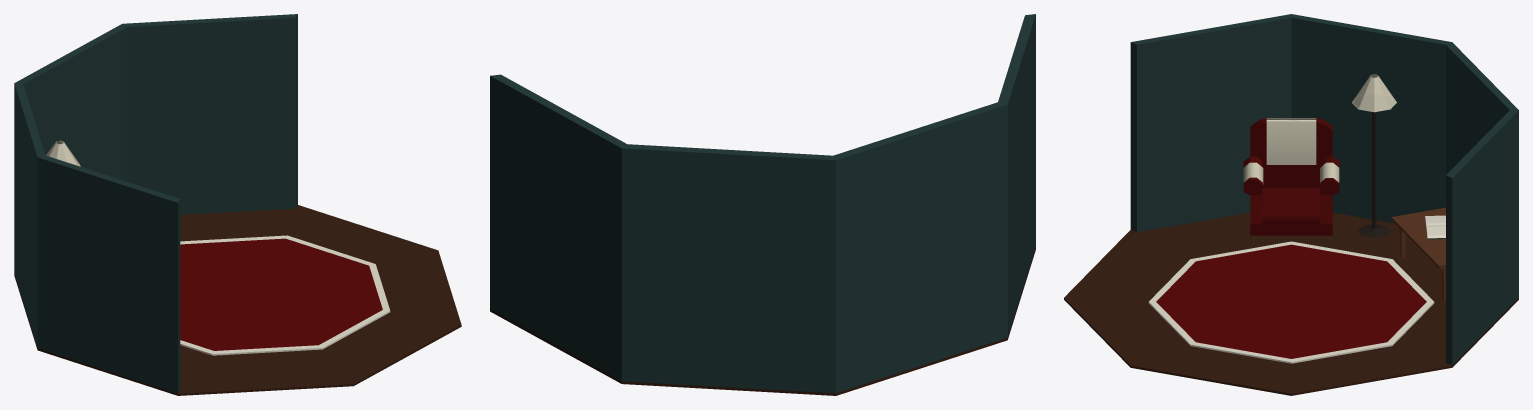
The model's file is grandmas_home_scene_lights.fbx.
3 renders of one model, left to right at view 1: azimuth 30°, elevation 25°; view 2: azimuth 150°, elevation 25°; view 3: azimuth 270°, elevation 25°, orthographic. The views are drawn at different scales.
Parts seen in each view (by area): view 1: floor_01, rug_01:rug_01, lamp_01:lampshade_01; view 2: floor_01; view 3: floor_01, rug_01:rug_01, armchair_02:armchair_01, armchair_02:throwover_03, armchair_02:cushion_01, desk_01:desk_01, lamp_01:lampshade_01, lamp_01:lamppost_01, book_01:pages_01.
Boxes of the visible parts, bbox=[...] form: floor_01: bbox=[14, 14, 461, 395]; rug_01:rug_01: bbox=[180, 235, 390, 355]; lamp_01:lampshade_01: bbox=[46, 140, 80, 166]; floor_01: bbox=[490, 14, 1035, 395]; floor_01: bbox=[1064, 14, 1518, 395]; rug_01:rug_01: bbox=[1148, 241, 1434, 363]; armchair_02:armchair_01: bbox=[1243, 118, 1339, 244]; armchair_02:throwover_03: bbox=[1266, 118, 1316, 164]; armchair_02:cushion_01: bbox=[1262, 188, 1320, 223]; desk_01:desk_01: bbox=[1391, 207, 1445, 301]; lamp_01:lampshade_01: bbox=[1351, 74, 1396, 112]; lamp_01:lamppost_01: bbox=[1358, 112, 1390, 237]; book_01:pages_01: bbox=[1425, 215, 1445, 238].
Bounding box in the file's own units: 19.94 × 9.18 × 19.94.
